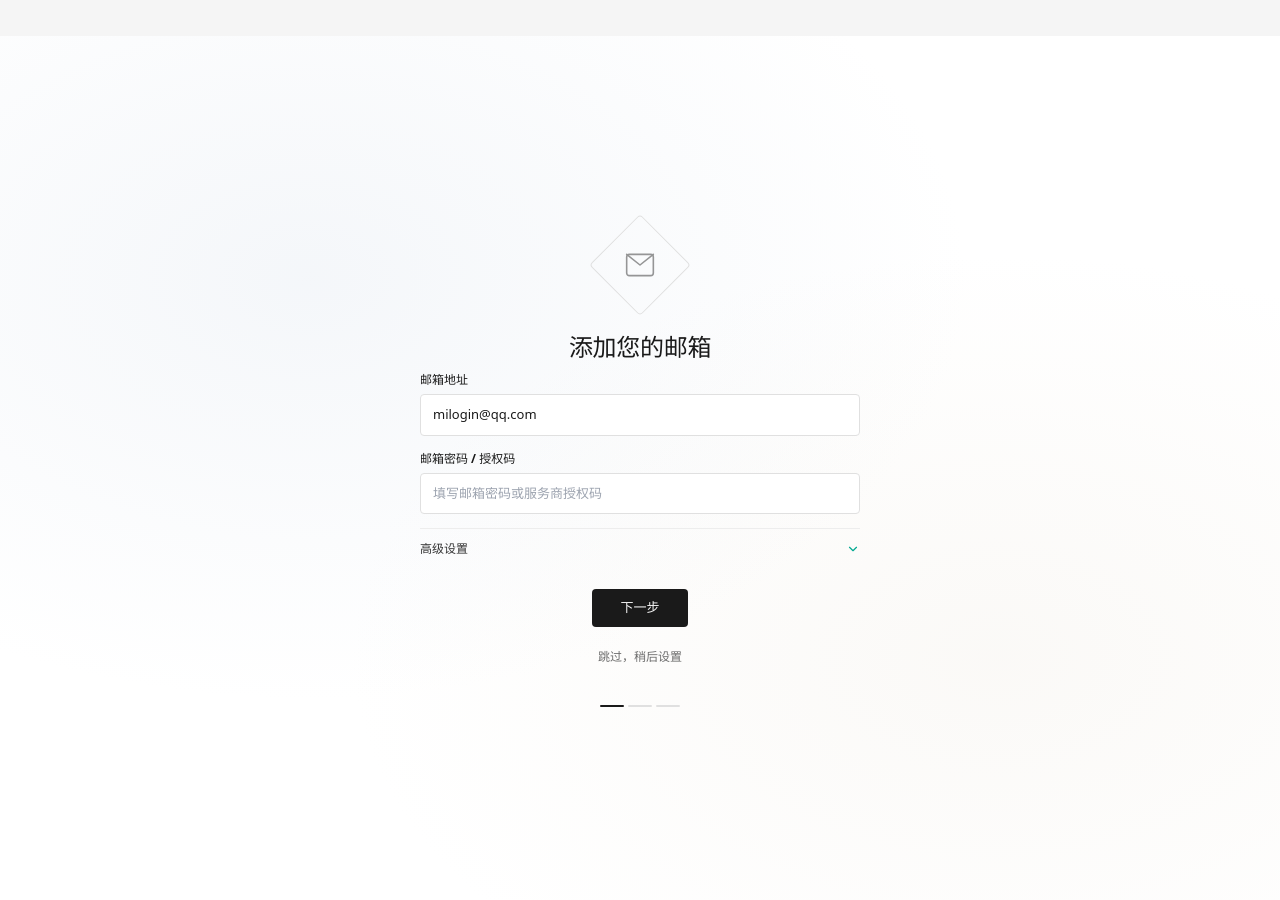
onboarding email account password › toggles advanced settings through the smooth controlled disclosure
Click the button "高级设置": (444, 549) [420,529,860,565]
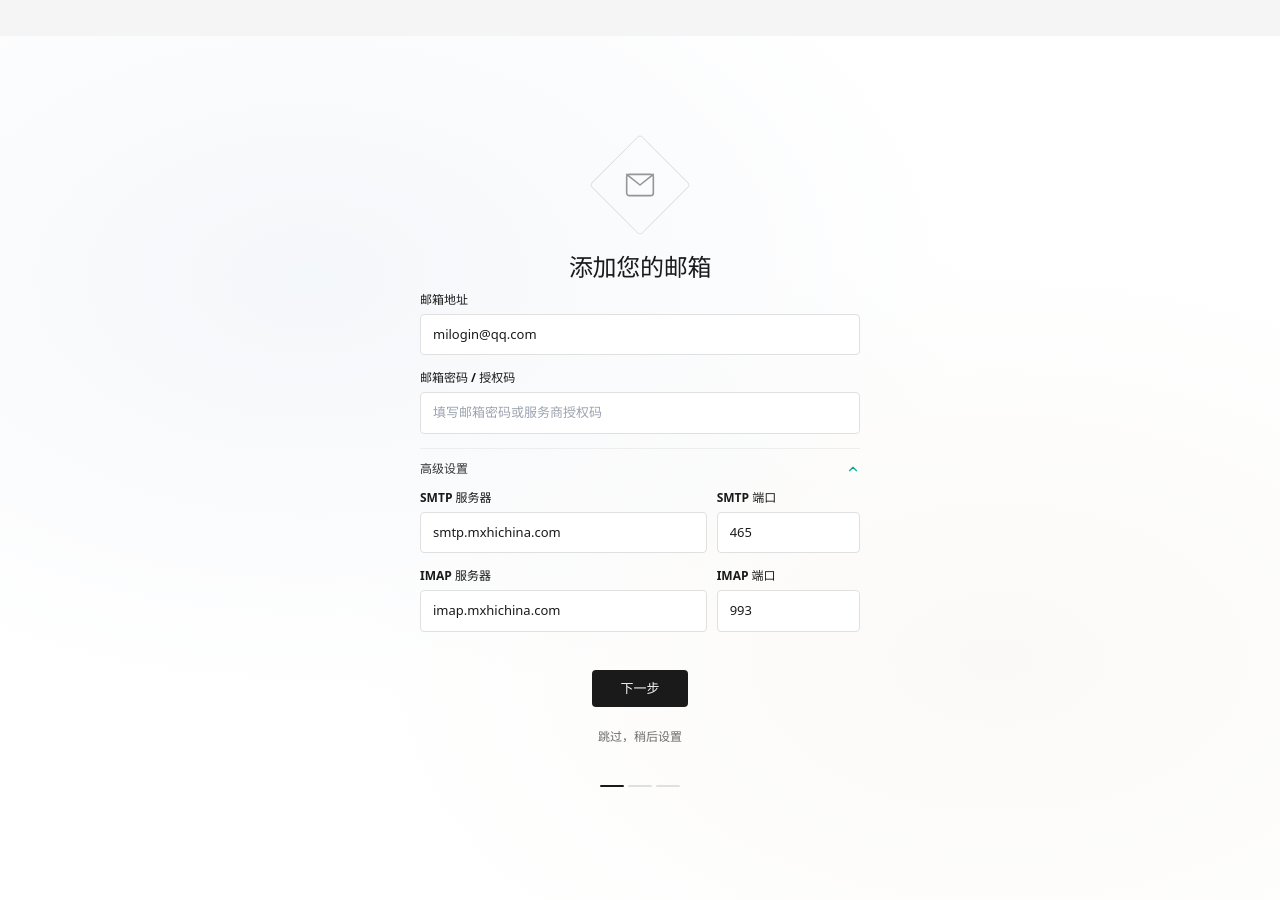
Expected: the button "高级设置" is expanded, [420,449,860,485]
